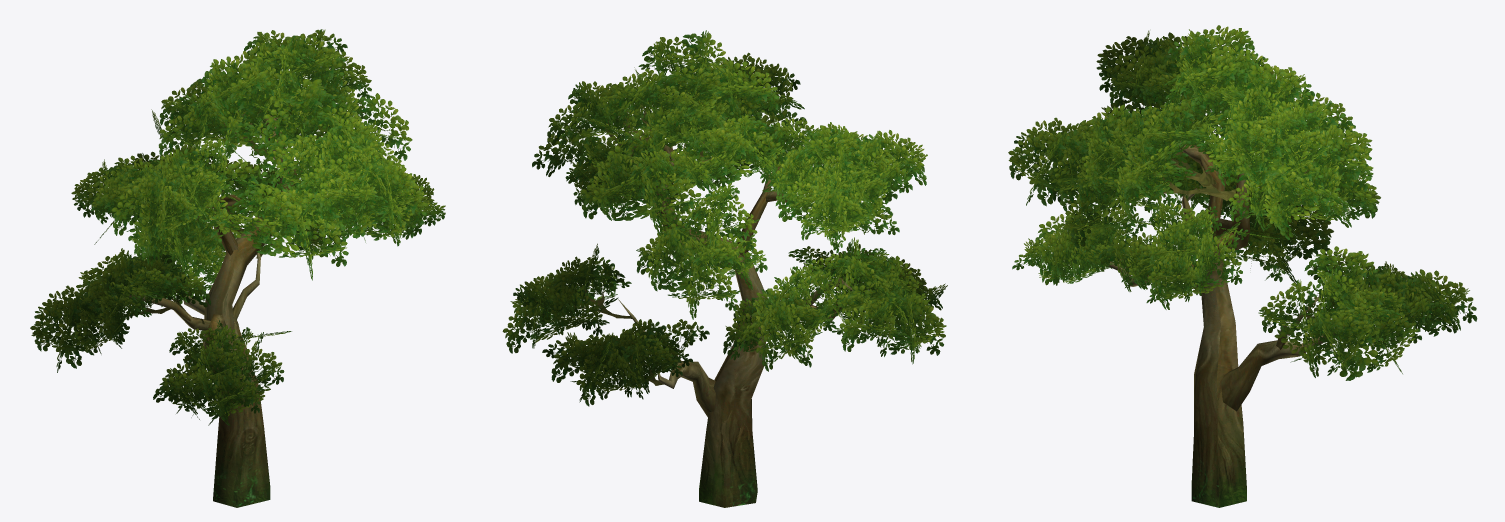
Rendered from chun_shu_002.FBX.
The picture shows the model from 3 angles, left to right: view 1: azimuth 30°, elevation 25°; view 2: azimuth 150°, elevation 25°; view 3: azimuth 270°, elevation 25°; orthographic projection. The views are drawn at different scales.
Visible parts, largest first — view 1: chun_shu_002_a, chun_shu_002_b; view 2: chun_shu_002_a, chun_shu_002_b; view 3: chun_shu_002_a, chun_shu_002_b.
Boxes of the visible parts, x1,y1,x2,y2 form: chun_shu_002_a: (30,29,445,425); chun_shu_002_b: (123,113,296,507); chun_shu_002_a: (502,30,947,406); chun_shu_002_b: (618,145,853,507); chun_shu_002_a: (1008,25,1477,380); chun_shu_002_b: (1075,111,1343,507).
Size of the model in its own units: 1671 by 1876 by 1713.
